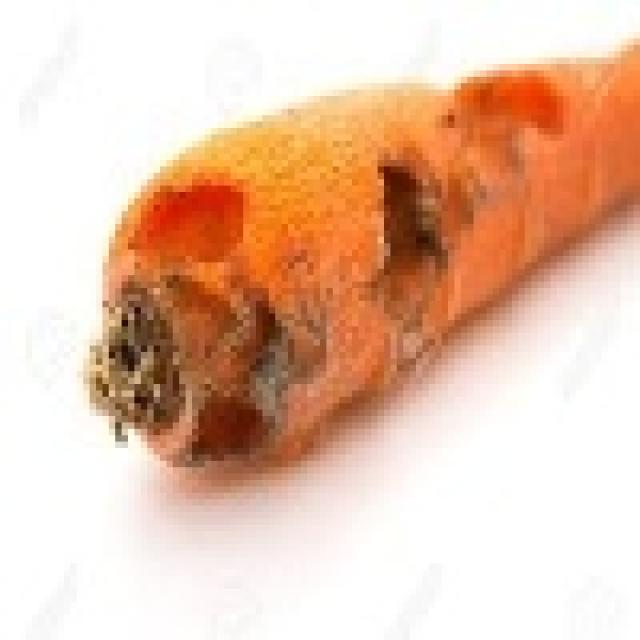Stale_Carrot: (107, 74, 466, 526)
